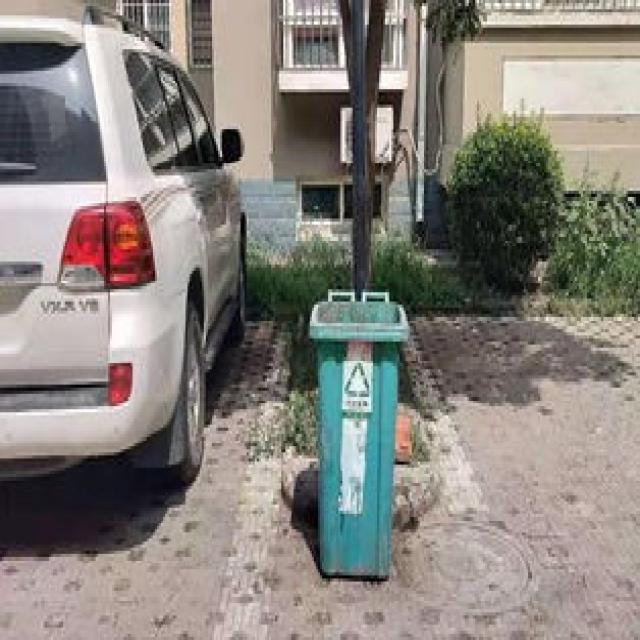garbage_bin: (306, 286, 406, 576)
